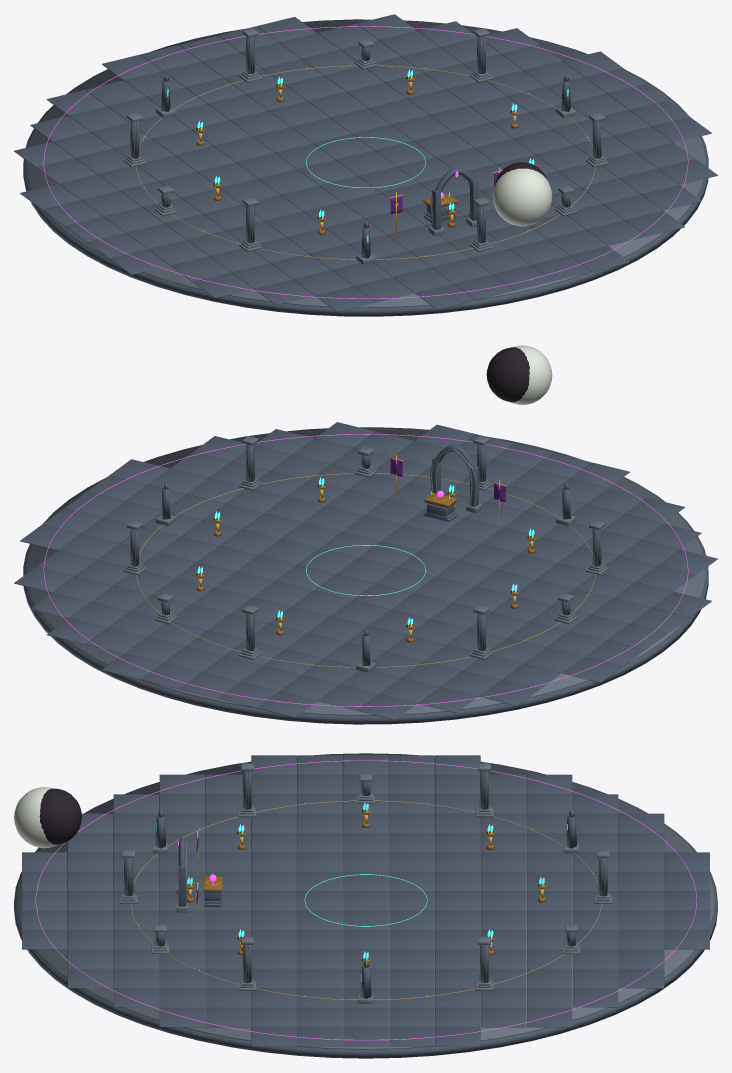
File: arena-refined-v15.fbx
3 views of the same model, one above another, from view 1: azimuth 30°, elevation 25°; view 2: azimuth 150°, elevation 25°; view 3: azimuth 270°, elevation 25° (orthographic). The views are drawn at different scales.
Visible parts, largest first — view 1: Foundation, DaisRim, EclipseMoon, EngravedRitualRing, FloorTile.065, EngravedRitualRing.001, FloorTile.004, FloorTile.125, FloorTile.013, FloorTile.080, FloorTile.151, FloorTile.037 (+163 smaller); view 2: Foundation, DaisRim, MoonShadow, EngravedRitualRing, EclipseMoon, FloorTile.051, FloorTile.111, FloorTile, FloorTile.025, FloorTile.005, FloorTile.014, FloorTile.096 (+168 smaller); view 3: DaisRim, Foundation, MoonShadow, EngravedRitualRing, EclipseMoon, FloorTile.067, FloorTile.079, FloorTile.139, FloorTile.151, FloorTile.008, FloorTile.010, FloorTile.071 (+171 smaller).
Part boxes in pixels (x1,y1,x2,y2): Foundation: (23,19,708,316); DaisRim: (26,19,705,307); EclipseMoon: (492,168,552,226); EngravedRitualRing: (43,26,688,298); FloorTile.065: (415,284,474,309); EngravedRitualRing.001: (136,65,595,259); FloorTile.004: (109,249,169,274); FloorTile.125: (570,246,629,271); FloorTile.013: (193,272,252,298); FloorTile.080: (454,274,513,300); FloorTile.151: (625,211,684,236); FloorTile.037: (315,286,375,312); Foundation: (23,427,708,724); DaisRim: (26,427,705,715); MoonShadow: (486,347,529,402); EngravedRitualRing: (43,434,688,706); EclipseMoon: (510,345,552,404); FloorTile.051: (257,691,316,717); FloorTile.111: (102,654,161,679); FloorTile: (562,657,622,682); FloorTile.025: (356,694,416,719); FloorTile.005: (479,680,538,706); FloorTile.014: (418,687,477,712); FloorTile.096: (140,663,200,688); DaisRim: (17,753,714,1049); Foundation: (14,753,717,1058); MoonShadow: (39,788,81,844); EngravedRitualRing: (35,760,696,1040); EclipseMoon: (14,787,57,848); FloorTile.067: (618,871,664,891); FloorTile.079: (67,871,113,891); FloorTile.139: (618,968,664,988); FloorTile.151: (67,968,113,988); FloorTile.008: (389,774,434,794); FloorTile.010: (297,774,342,794); FloorTile.071: (435,871,480,891).
Size of the model in its own units: 4600 by 870 by 4600.
